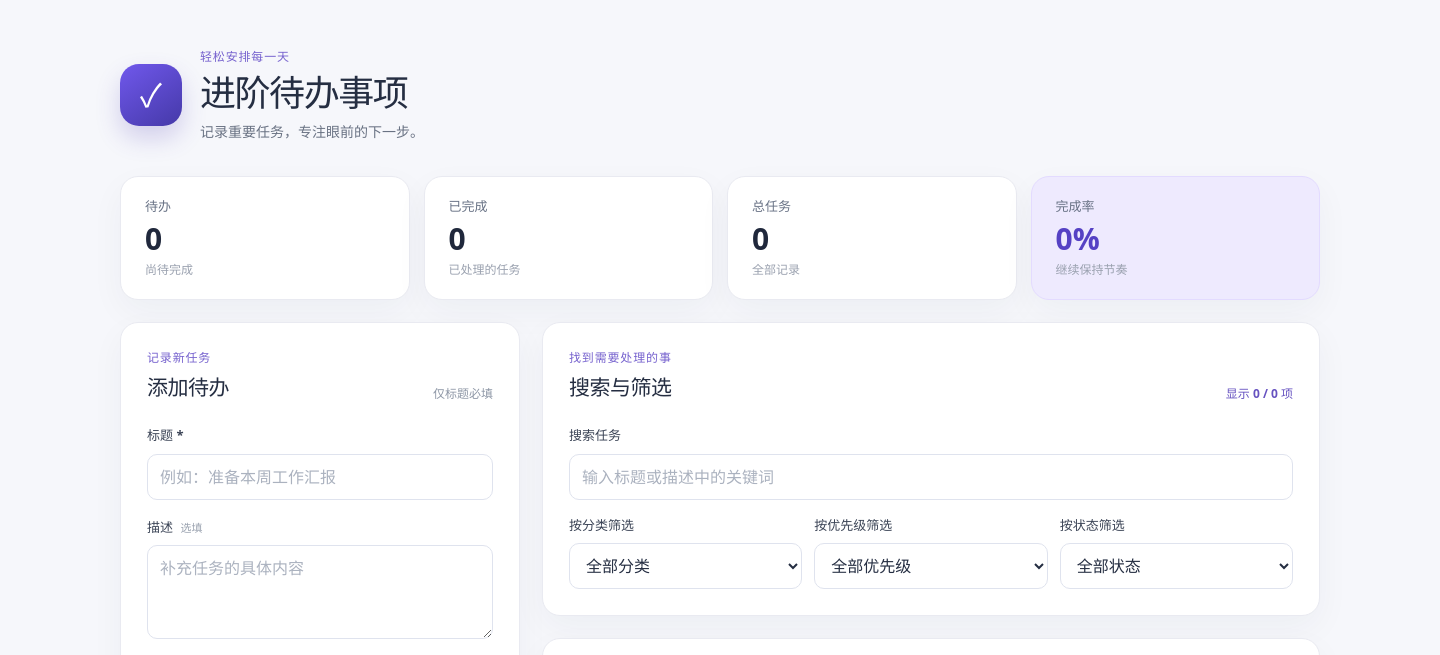
新增任务与筛选界面 › 保存失败时保留表单输入和原有任务
In the field labelled "标题 *": point(320, 477) [147,454,493,500], type "不能丢失的输入"
(page scrolled)
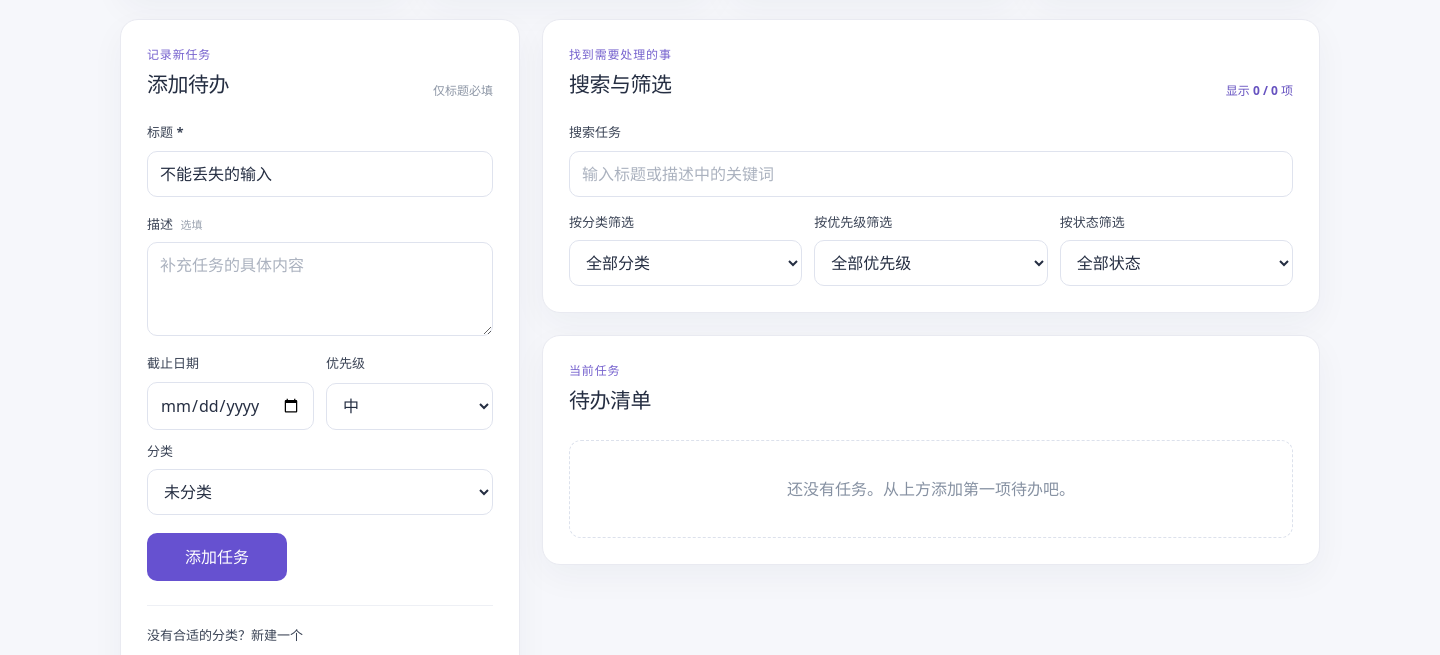
Click the button "添加任务": point(217, 557) [147,533,287,581]
(page scrolled)
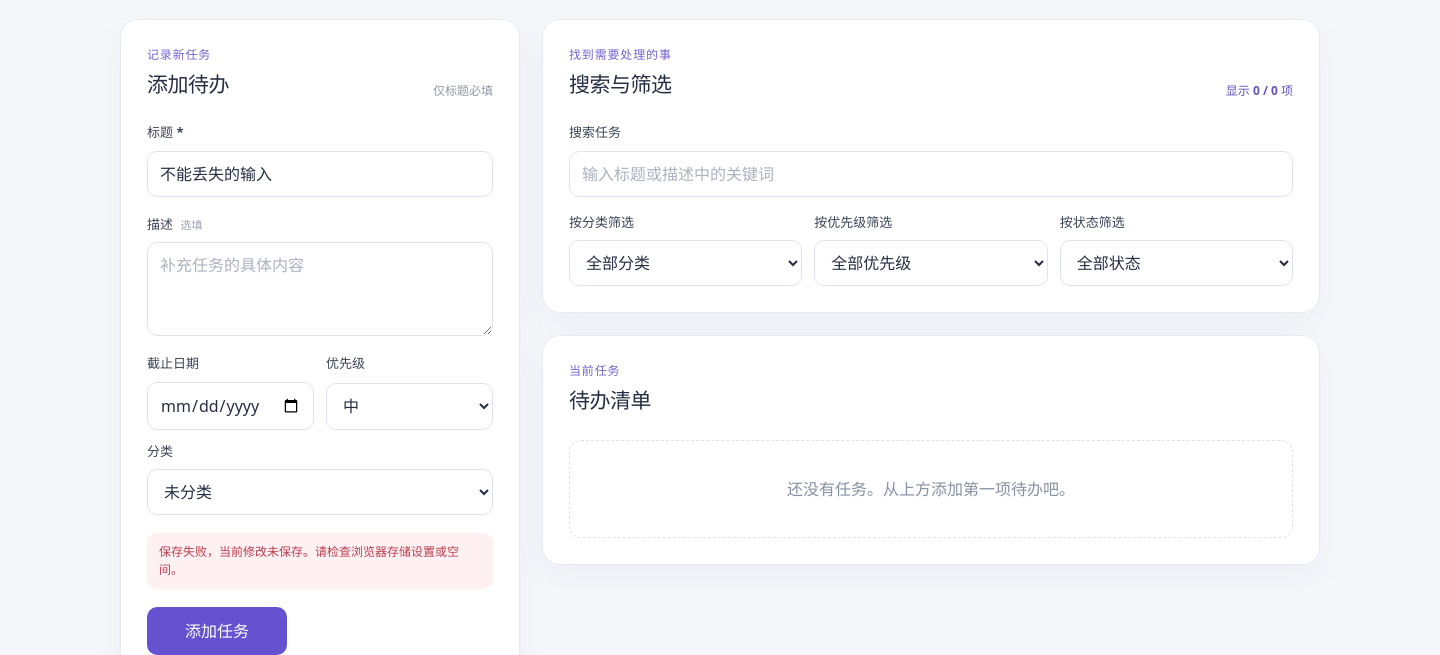
Result: the text "保存失败，当前修改未保存。请检查浏览器存储设置或空间。" is shown at [147,533,493,589]
